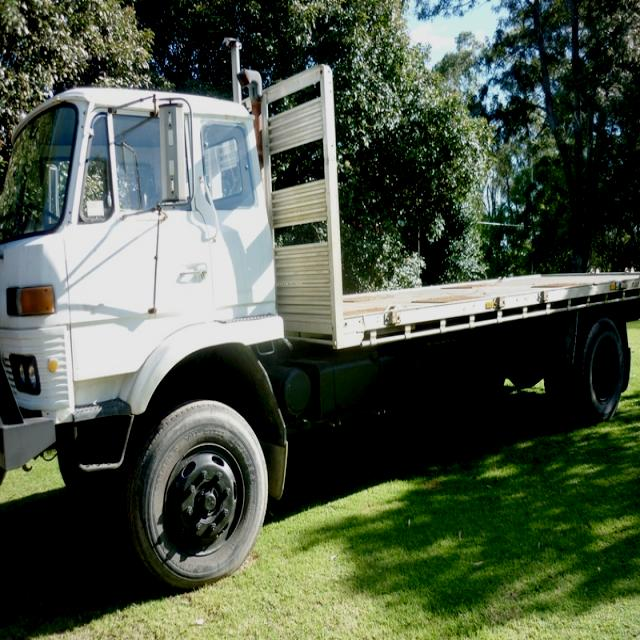truck: (1, 35, 640, 586)
